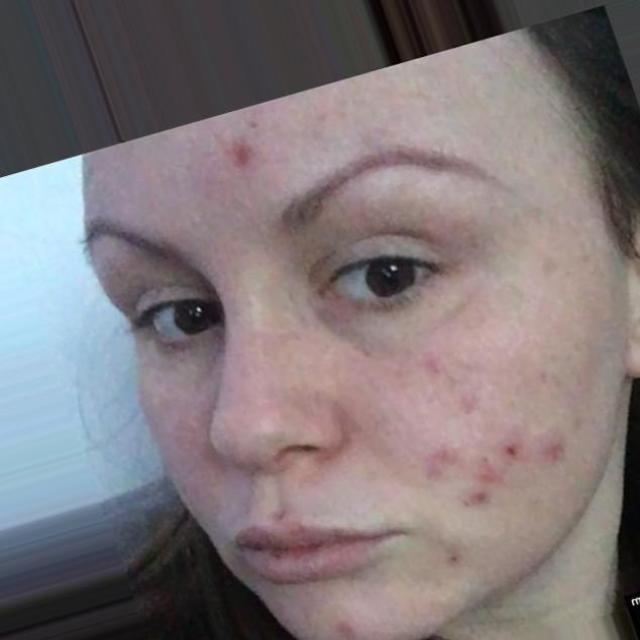acne: (500, 436, 580, 473), (466, 453, 506, 526), (224, 127, 268, 183), (320, 599, 380, 640), (412, 338, 460, 382), (422, 444, 472, 482)
